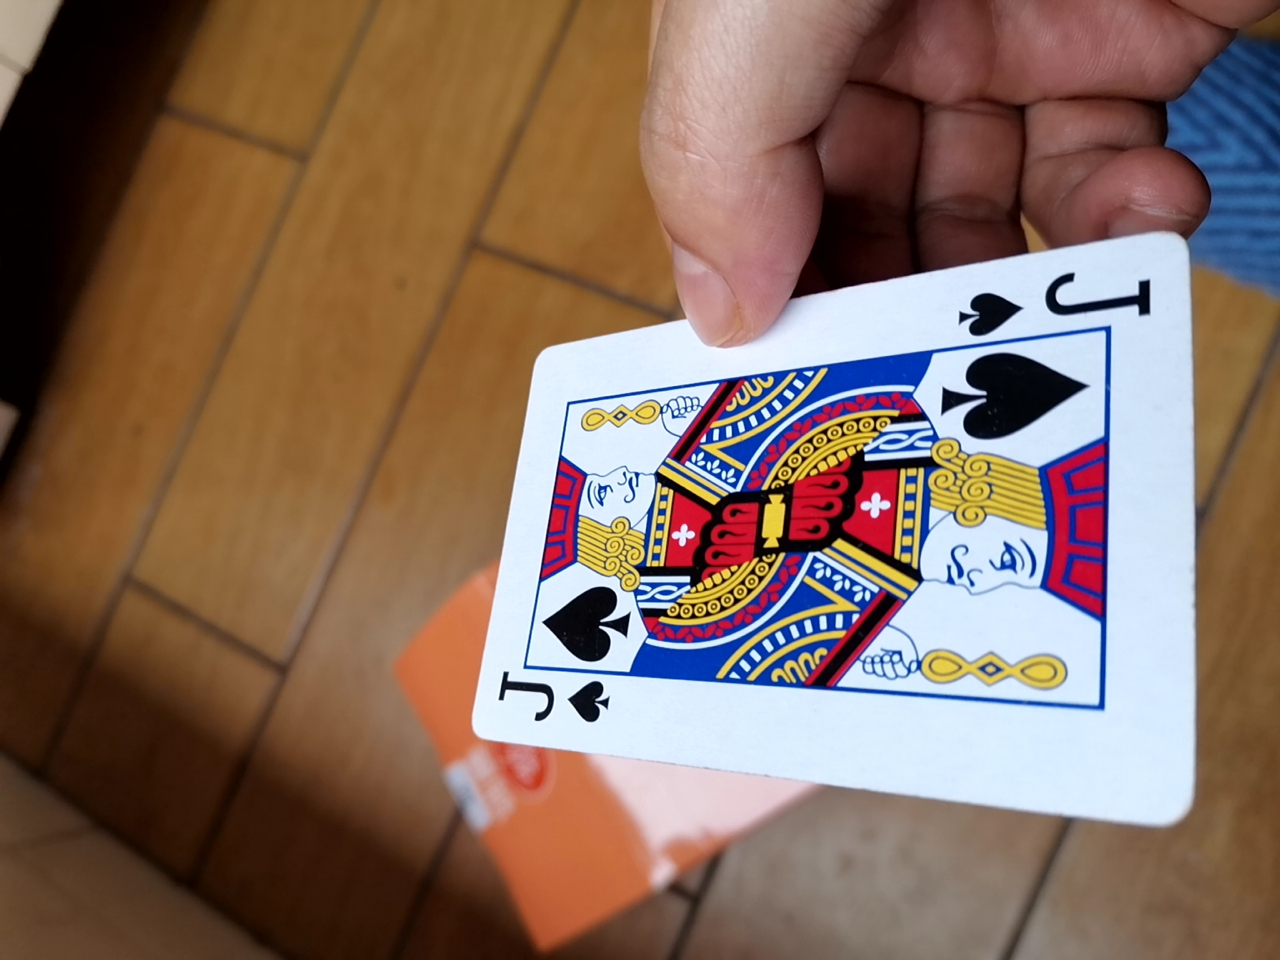ht j: (440, 241, 1184, 830)
